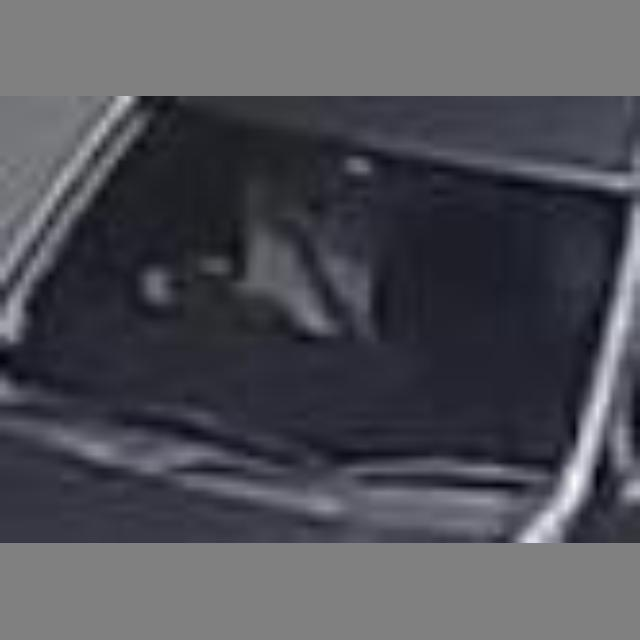pakai: (193, 127, 416, 374)
